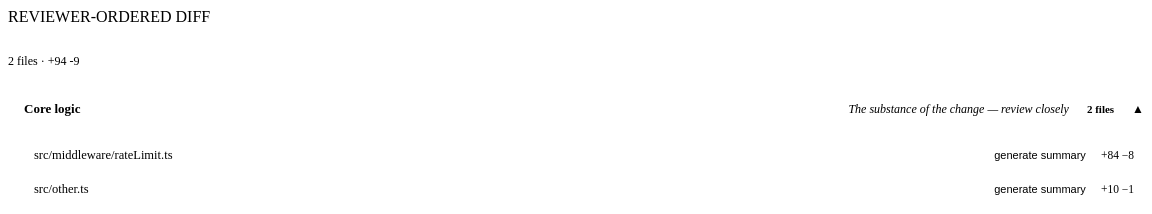
SmartDiffViewer › generating one file's summary does not disable or affect a SIBLING file's generate button in the same role group (regression: shared-mutation pending state)
Click the button with aria-label "generate summary for src/middleware/rateLimit.ts": {"x": 1038, "y": 155} [983,147,1093,163]
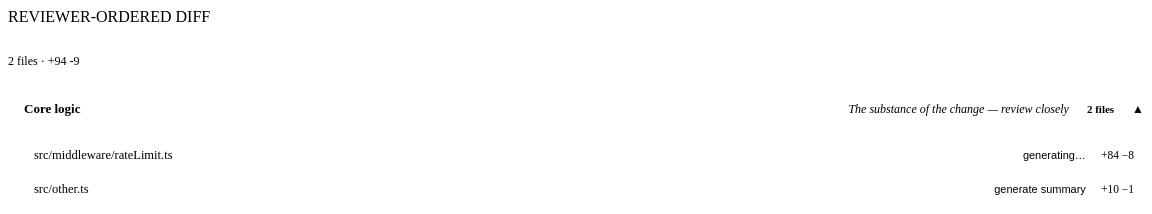
Now the button with aria-label "generate summary for src/middleware/rateLimit.ts" is disabled, box [1012,147,1093,163]
Click the button with aria-label "generate summary for src/other.ts": {"x": 1038, "y": 189} [983,181,1093,197]
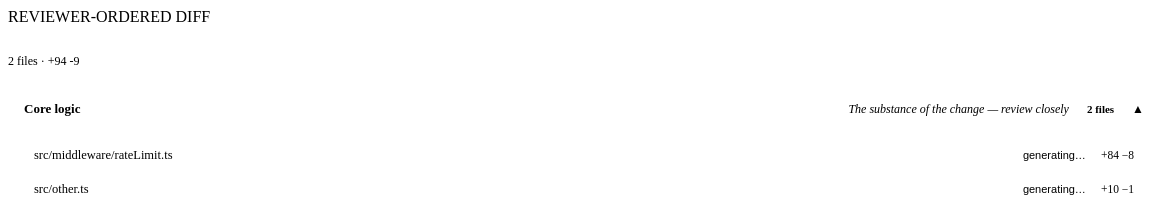
Now the button with aria-label "generate summary for src/middleware/rateLimit.ts" is disabled, box [1012,147,1093,163]
Now the button with aria-label "generate summary for src/other.ts" is disabled, box [1012,181,1093,197]
